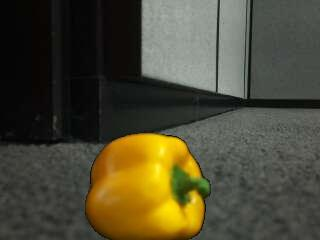Capsicum: (84, 133, 211, 240)
